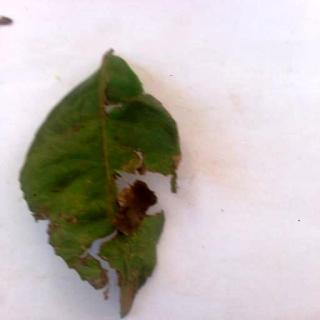Brown Blight: (20, 51, 182, 320)
